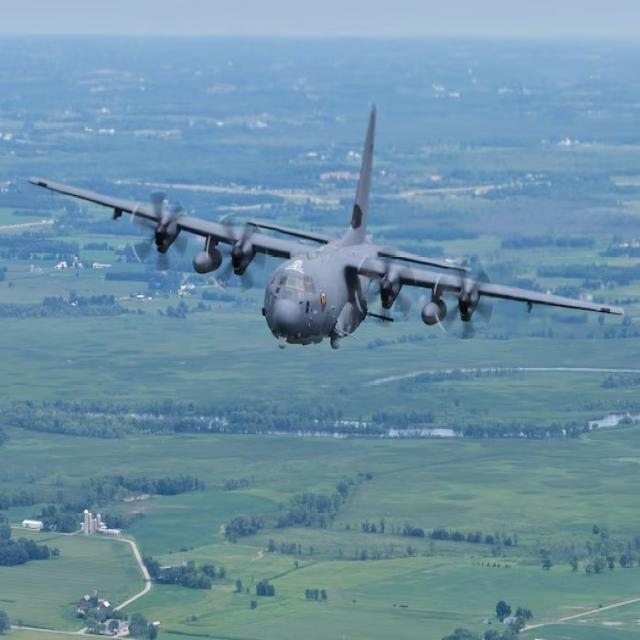C130: (4, 80, 634, 366)
